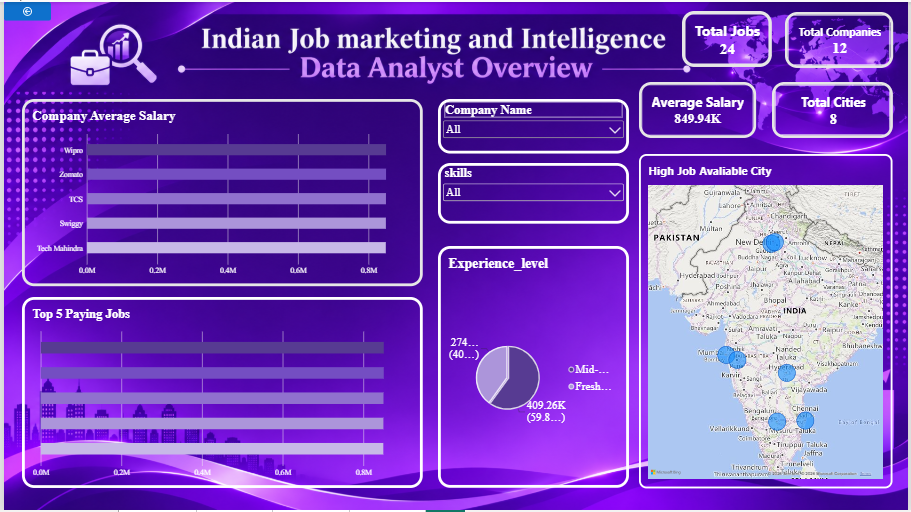

Layout of this report page (visuals, bound fields, positions):
{"tool":"powerbi","page":{"name":"Page 3","canvas":[1920,1080],"ordinal":0},"visuals":[{"type":"cardVisual","fields":{"Data":["clean_jobs.Total Jobs"]},"box":[1441.4,19.1,191.3,119.1],"z":0},{"type":"cardVisual","fields":{"Data":["clean_jobs.Total Companies"]},"box":[1660.4,21.3,229.6,119.1],"z":1000},{"type":"cardVisual","fields":{"Data":["clean_jobs.Total Cities"]},"box":[1632.8,170.1,257.2,119.1],"z":2000},{"type":"cardVisual","fields":{"Data":["clean_jobs.Average Salary"]},"box":[1350,170.1,248.7,119.1],"z":3000},{"type":"clusteredBarChart","title":"Top 5 Paying  Jobs","fields":{"Category":["clean_jobs.job_category"],"Y":["clean_jobs.Average Salary"]},"box":[37.8,627.4,851.7,405.7],"z":5000},{"type":"pieChart","title":"Experience_level","fields":{"Category":["clean_jobs.experience_level"],"Y":["CountNonNull(clean_jobs.experience_level)"]},"box":[922.2,519.1,405.7,514],"z":6000},{"type":"clusteredBarChart","title":"Company Average Salary ","fields":{"Category":["clean_jobs.company_name"],"Y":["clean_jobs.Average Salary"]},"box":[37.8,206.6,851.7,398.1],"z":7000},{"type":"map","title":"High Job Avaliable City","fields":{"Category":["clean_jobs.location_city"],"Size":["clean_jobs.Total Jobs"]},"box":[1350.6,322.5,539.2,710.6],"z":8000},{"type":"slicer","fields":{"Values":["clean_jobs.company_name"]},"box":[922.2,206.6,405.7,115.9],"z":9000},{"type":"actionButton","box":[0,0,100,40],"z":10000},{"type":"slicer","fields":{"Values":["clean_jobs.skills_extracted"]},"box":[922.7,342.3,405.7,128.5],"z":11000}]}

Visuals, with their boxes in screenshot pixels (x1, y1, x2, y2), scaled from the page's 1920x1080 canvas onto the 911x512 screenshot:
cardVisual - clean_jobs.Total Jobs: <bbox>684, 9, 775, 66</bbox>
cardVisual - clean_jobs.Total Companies: <bbox>788, 10, 897, 67</bbox>
cardVisual - clean_jobs.Total Cities: <bbox>775, 81, 897, 137</bbox>
cardVisual - clean_jobs.Average Salary: <bbox>641, 81, 759, 137</bbox>
"Top 5 Paying  Jobs" clusteredBarChart: <bbox>18, 297, 422, 490</bbox>
"Experience_level" pieChart: <bbox>438, 246, 630, 490</bbox>
"Company Average Salary " clusteredBarChart: <bbox>18, 98, 422, 287</bbox>
"High Job Avaliable City" map: <bbox>641, 153, 897, 490</bbox>
slicer - clean_jobs.company_name: <bbox>438, 98, 630, 153</bbox>
actionButton: <bbox>0, 0, 47, 19</bbox>
slicer - clean_jobs.skills_extracted: <bbox>438, 162, 630, 223</bbox>
